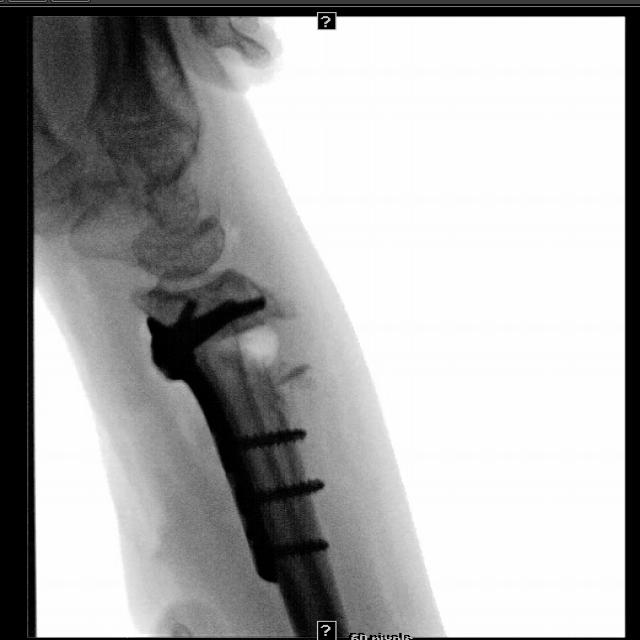x-ray: (133, 283, 356, 588)
